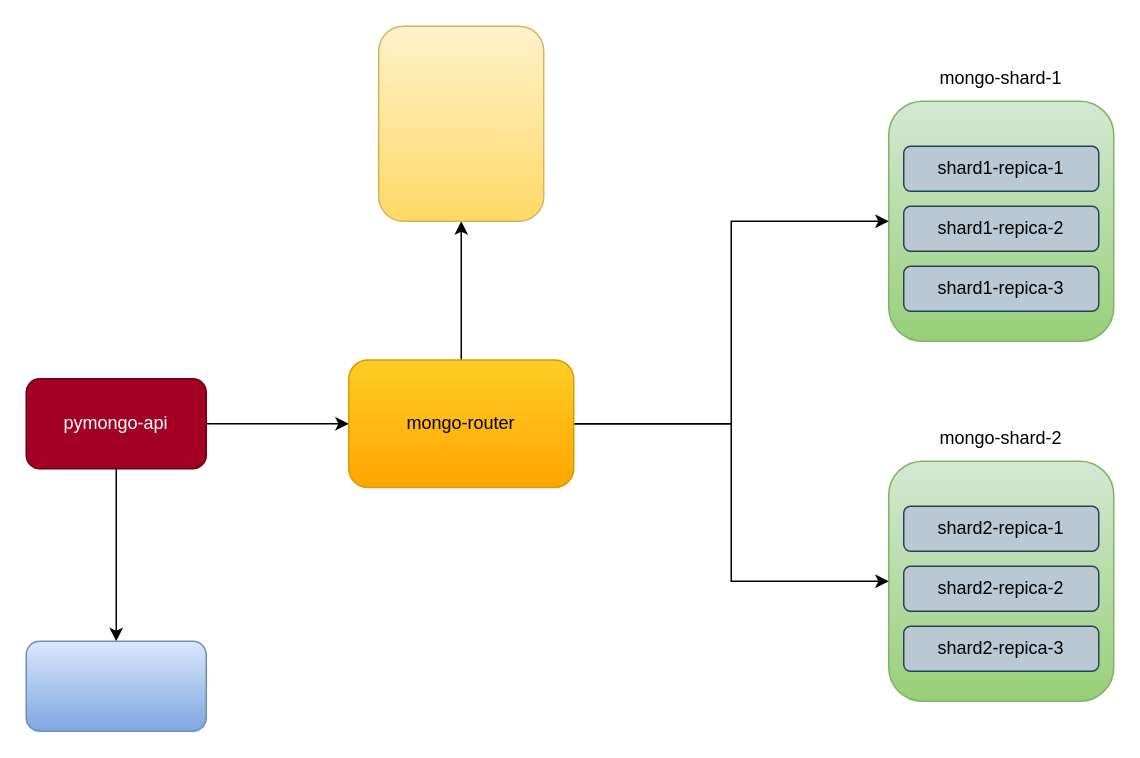
Image size: 1140x758. Some labels were removed from this diagram. The shapes that lost their labels are listed below. From the top down, each one's centre as x and y in pixels, then its label:
pixel 460 123: config server configSrv
pixel 115 685: redis
